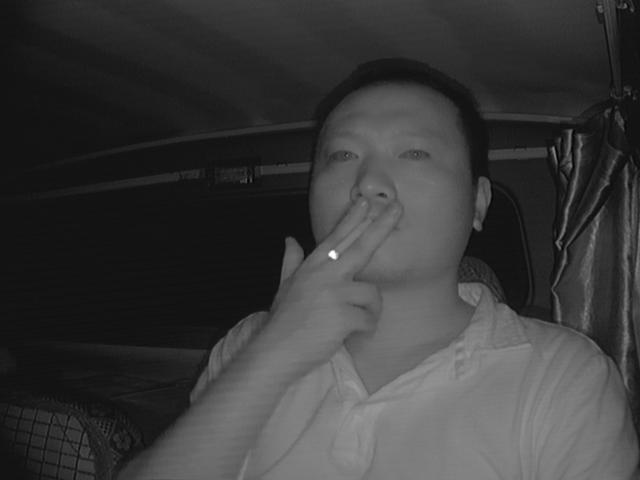hand: (300, 200, 402, 342)
